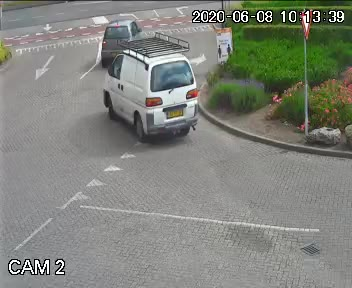car: (98, 40, 216, 155), (99, 17, 139, 62)
